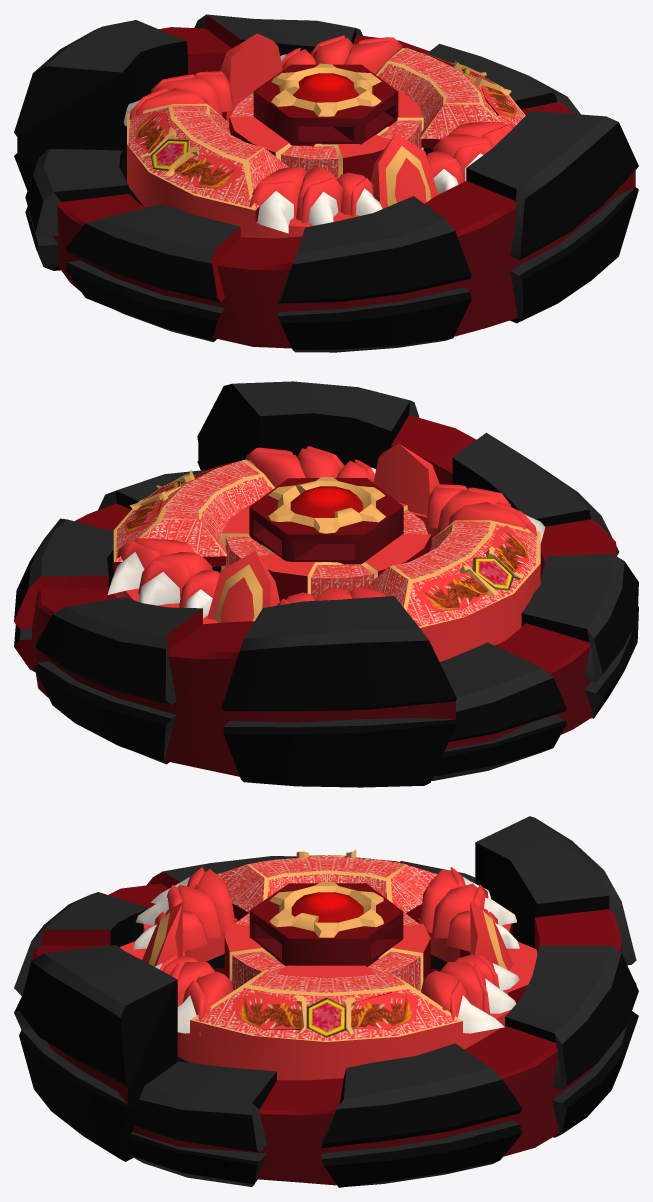
File: Com3d_BbAI_sarama_N000out.obj
3 renders of one model, top to bottom at view 1: azimuth 30°, elevation 25°; view 2: azimuth 150°, elevation 25°; view 3: azimuth 270°, elevation 25°, orthographic. The views are drawn at different scales.
Visible parts, largest first — view 1: Com3d_BbAI_sarama_N000out; view 2: Com3d_BbAI_sarama_N000out; view 3: Com3d_BbAI_sarama_N000out.
Boxes of the visible parts, <box> form: Com3d_BbAI_sarama_N000out: <box>14,14,638,352</box>; Com3d_BbAI_sarama_N000out: <box>14,381,638,787</box>; Com3d_BbAI_sarama_N000out: <box>14,816,638,1187</box>.
Size of the model in its own units: 29.12 by 9.14 by 28.78.
1 material, 1 textured.
